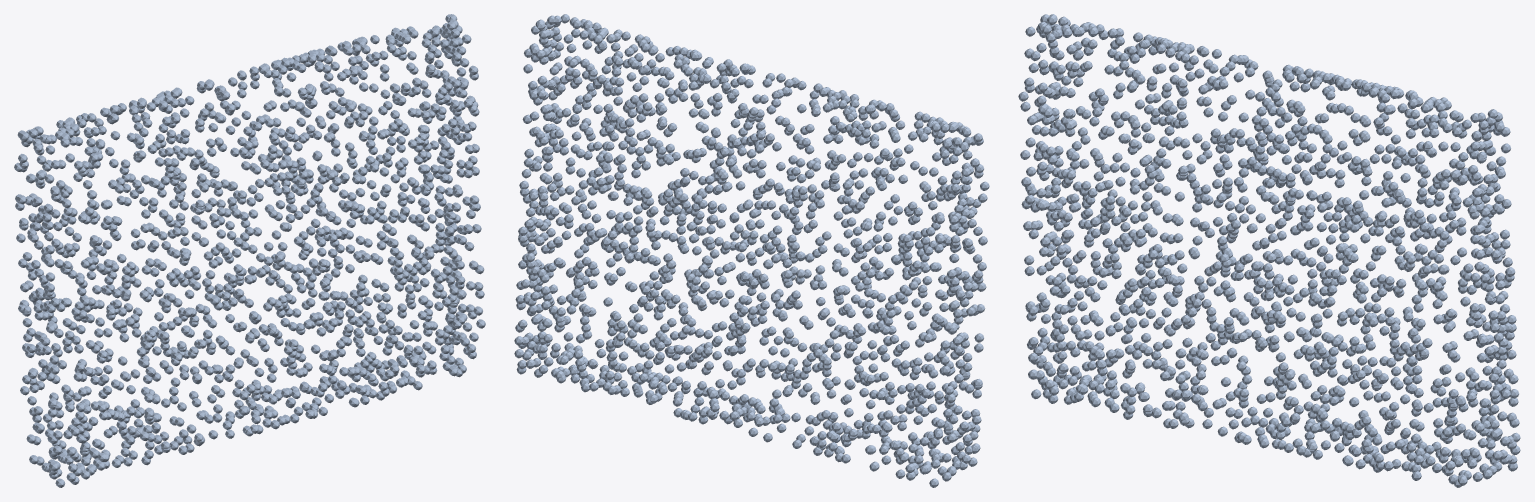
The model's file is ori_pointcloud.glb.
3 views of the same model, side by side, from view 1: azimuth 30°, elevation 25°; view 2: azimuth 150°, elevation 25°; view 3: azimuth 330°, elevation 25° (orthographic). The views are drawn at different scales.
Visible parts, largest first — view 1: world; view 2: world; view 3: world.
Part boxes in pixels (left/top/right/bottom): world: left=14, top=14, right=485, bottom=487; world: left=514, top=14, right=989, bottom=487; world: left=1018, top=14, right=1520, bottom=487.
Bounding box in the file's own units: 2.07 × 1.61 × 0.2948.
